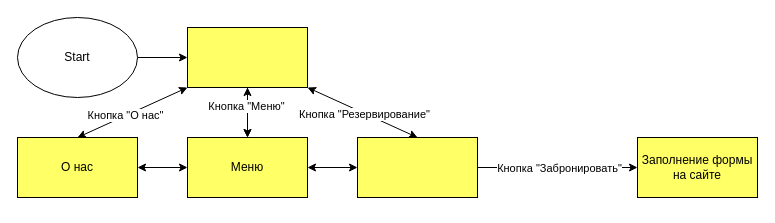
Image size: 775x223. Some labels were removed from this diagram. Here are the shapes that lost their labels. From the top down, the centre of each, then its label:
At (247,57): "Домашняя страница".
At (417,167): "Резервирование".
